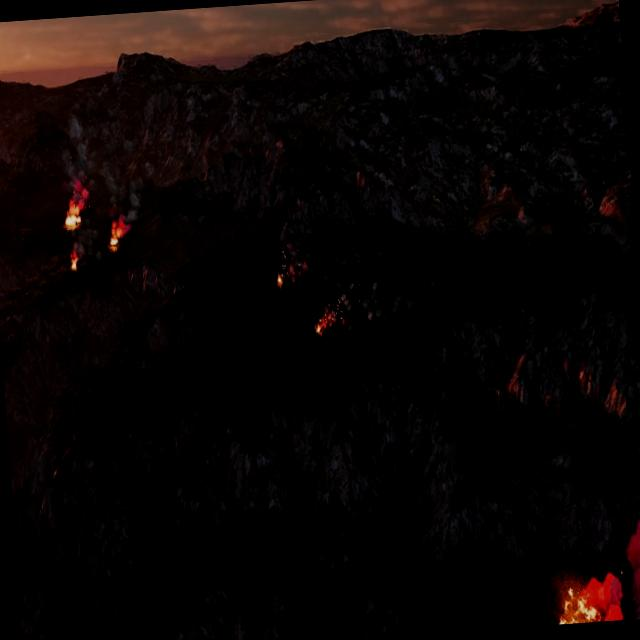fire: (554, 568, 624, 624), (60, 182, 91, 232), (105, 212, 134, 255), (313, 306, 336, 336), (70, 252, 79, 271), (276, 274, 283, 288)
smoke: (59, 113, 89, 196), (623, 516, 640, 618), (118, 179, 147, 225), (284, 241, 308, 282)
